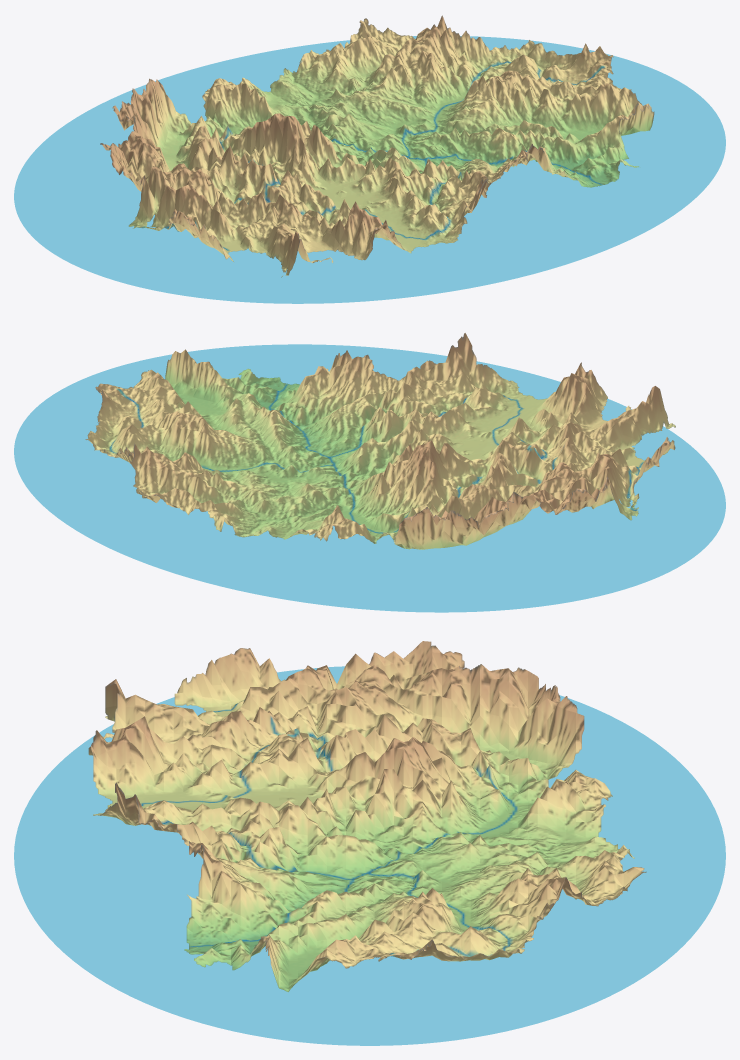
Rendered from MKD-terrain.glb.
The picture shows the model from 3 angles, top to bottom: view 1: azimuth 30°, elevation 25°; view 2: azimuth 150°, elevation 25°; view 3: azimuth 270°, elevation 25°; orthographic projection. The views are drawn at different scales.
Visible parts, largest first — view 1: Relevo com hidrografia; view 2: Relevo com hidrografia; view 3: Relevo com hidrografia.
Part boxes in pixels (left/top/right/bottom): Relevo com hidrografia: left=14, top=15, right=725, bottom=303; Relevo com hidrografia: left=14, top=333, right=725, bottom=612; Relevo com hidrografia: left=14, top=641, right=725, bottom=1045.
Size of the model in its own units: 2.04 by 0.2042 by 1.62.
2 materials, 1 textured.
